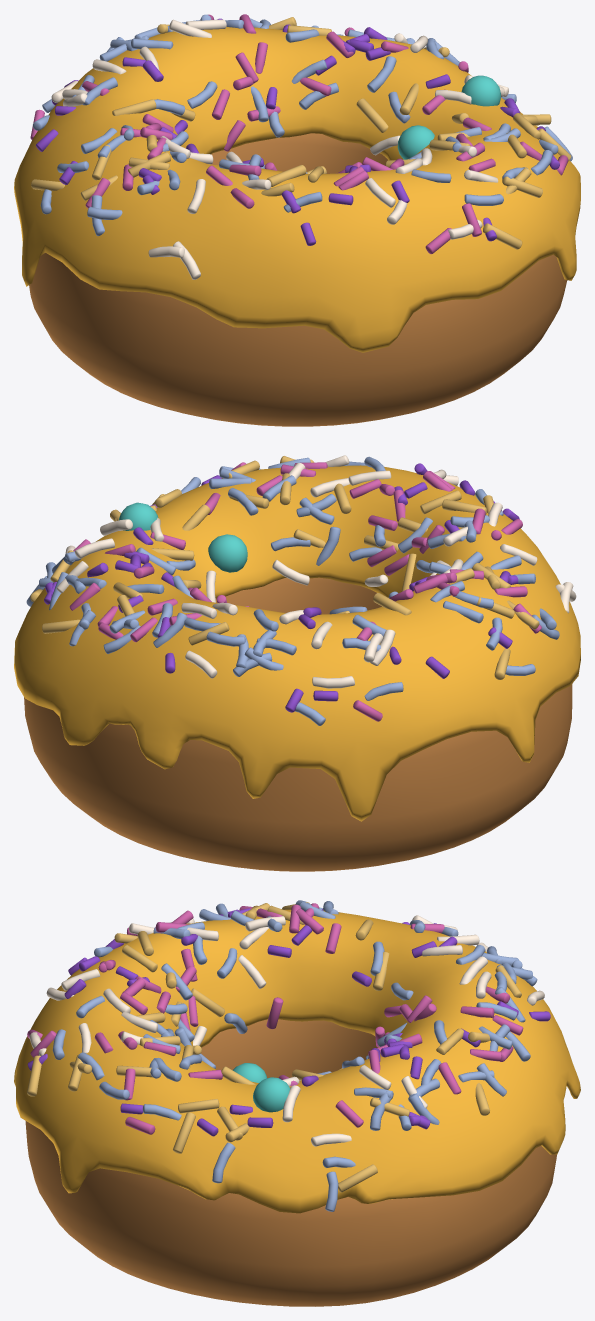
Rendered from SM_donut_yellow.fbx.
3 renders of one model, top to bottom at view 1: azimuth 30°, elevation 25°; view 2: azimuth 150°, elevation 25°; view 3: azimuth 270°, elevation 25°, orthographic. The views are drawn at different scales.
Visible parts, largest first — view 1: SM_donut_yellow; view 2: SM_donut_yellow; view 3: SM_donut_yellow.
Part boxes in pixels (x1,y1,x2,y2): SM_donut_yellow: [14, 14, 580, 426]; SM_donut_yellow: [14, 455, 580, 871]; SM_donut_yellow: [14, 900, 580, 1306].
Bounding box in the file's own units: 17.32 × 8.4 × 17.2.
1 material, 1 textured.
